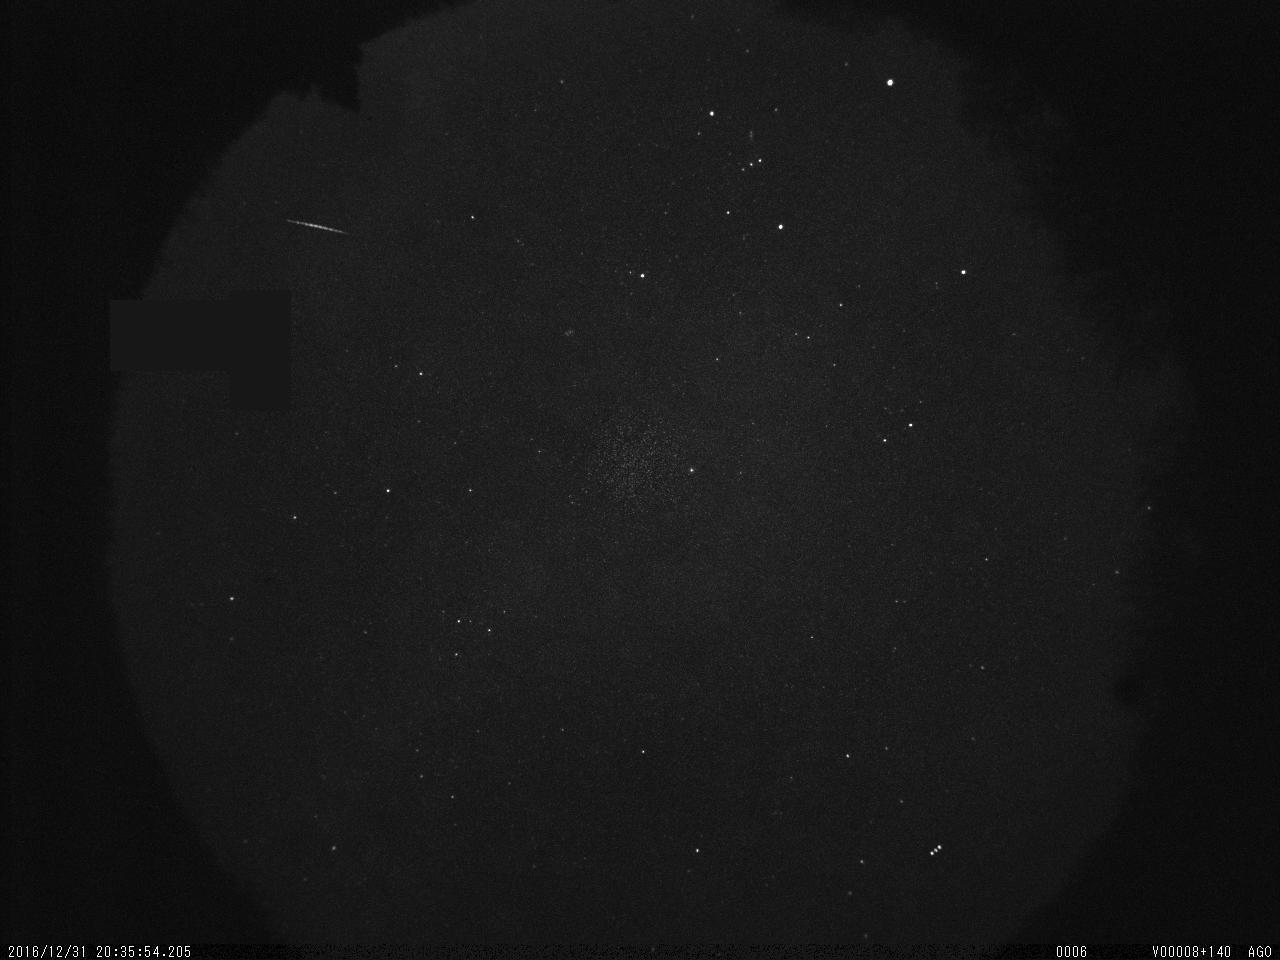meteor: (272, 208, 362, 249)
